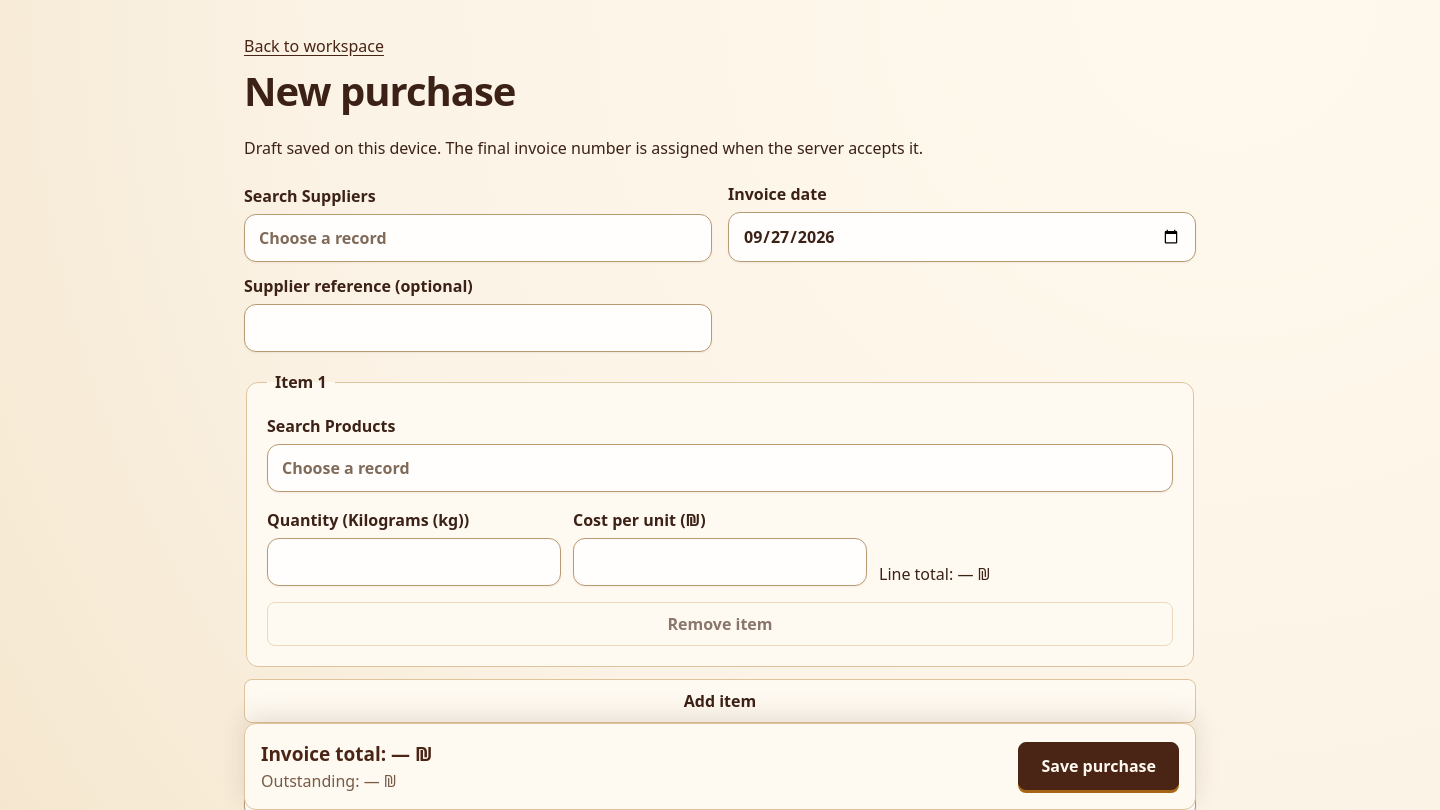
it: searches and selects a product in one purchase field
In the dropdown labelled "Search Products": (720, 468) [267,444,1173,492], type "Spi"
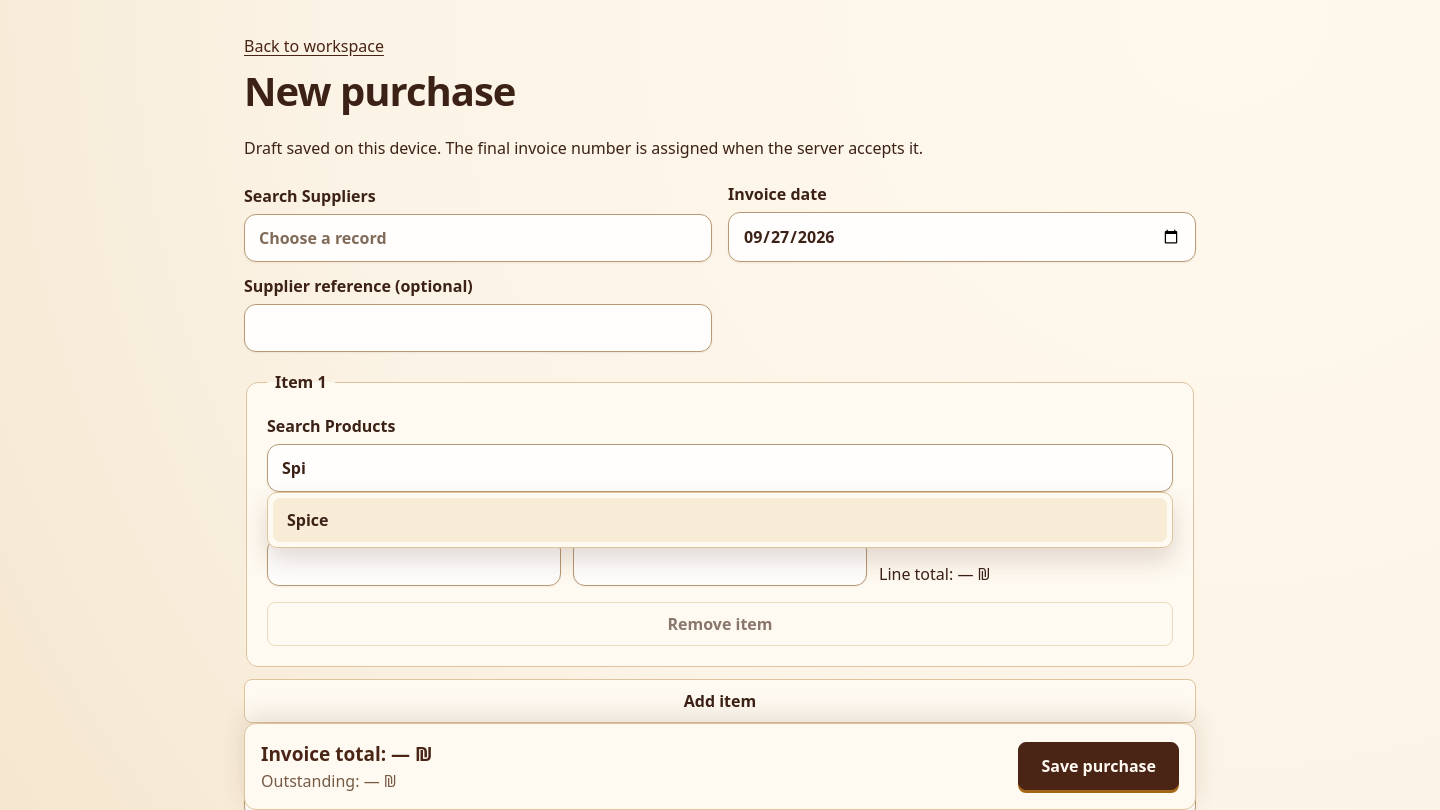
Click the option "Spice": (308, 520) [273,498,1167,542]
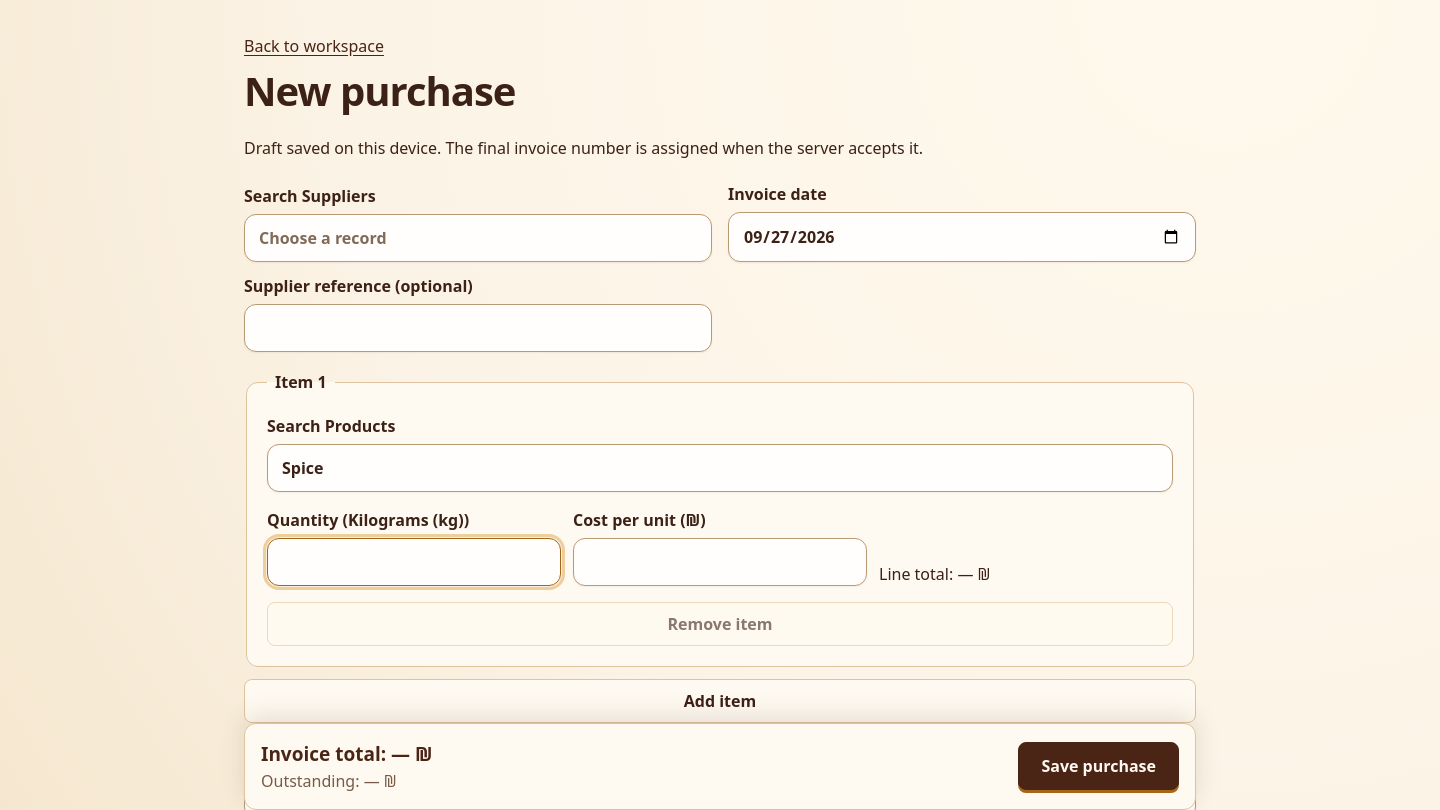
Expected: the dropdown labelled "Search Products" holds "Spice", [267,444,1173,492]
Expected: the list is gone
